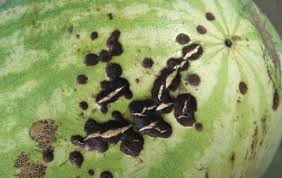damaged_watermelon: (1, 3, 253, 178)
